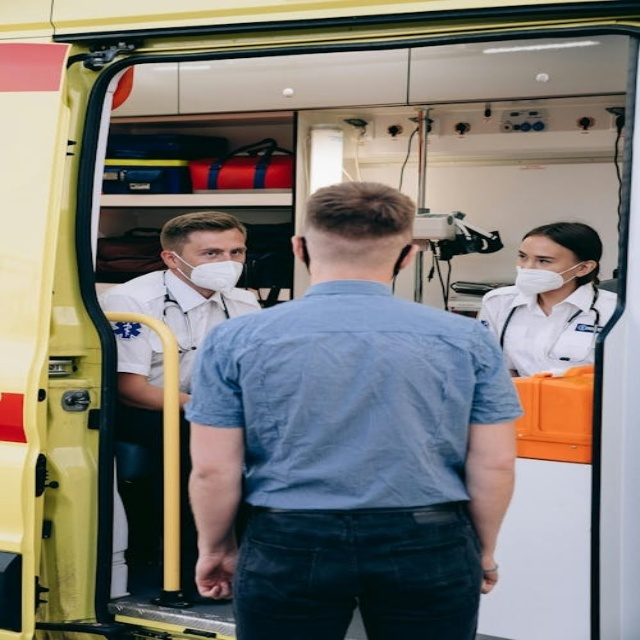Mascara: (171, 253, 243, 292), (514, 262, 582, 295)
Sin_gafas: (184, 242, 251, 261), (516, 248, 564, 266)
Sin_guantes: (184, 540, 243, 599), (476, 537, 506, 595)
